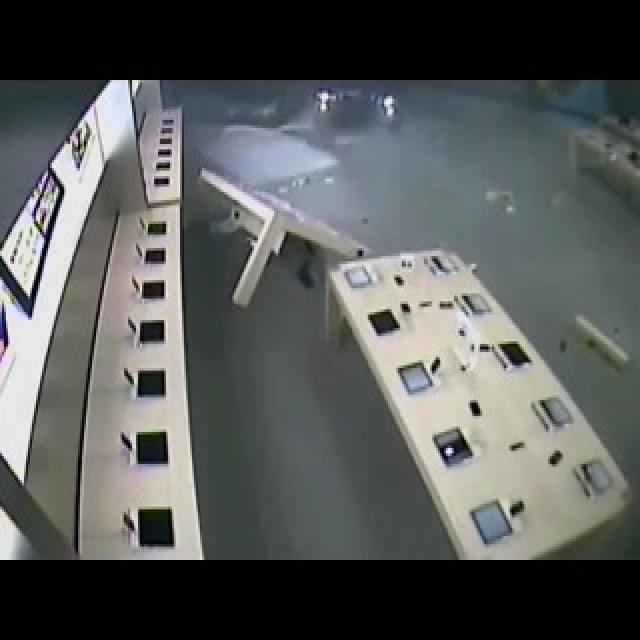burglary: (287, 83, 406, 142)
